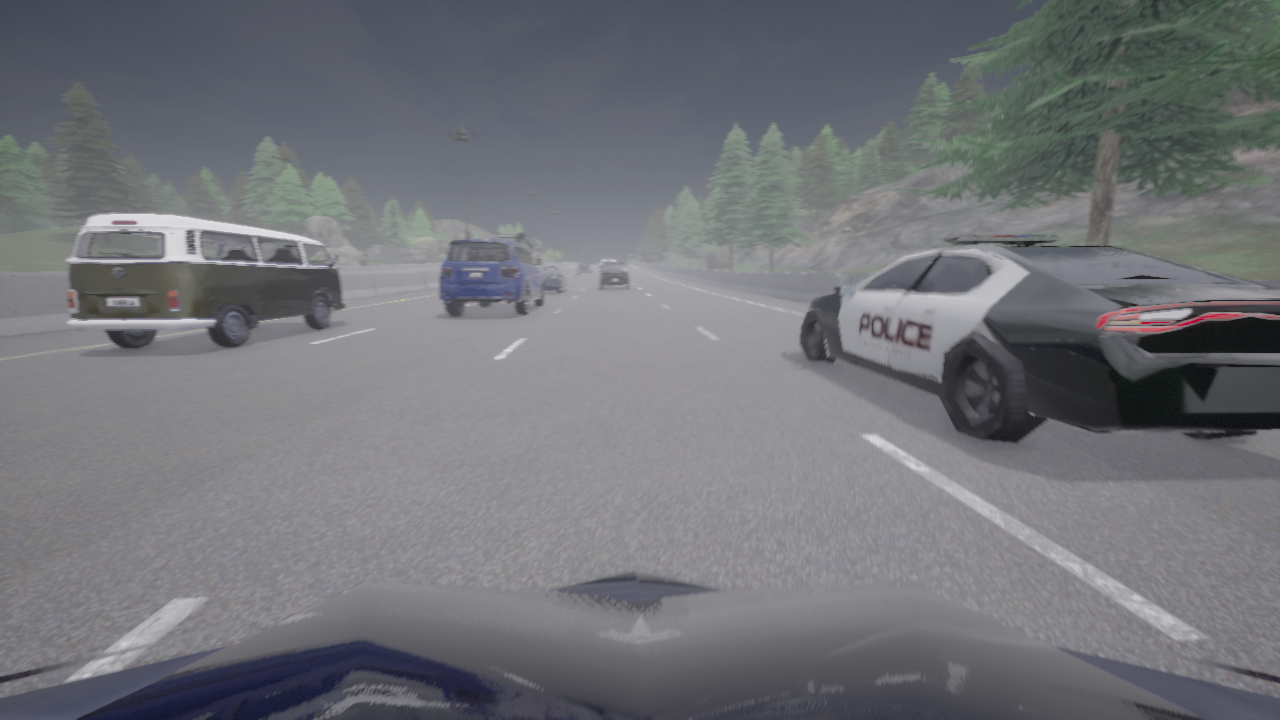cyclist: (0, 569, 1279, 719), (798, 233, 1279, 442), (66, 213, 345, 348), (440, 239, 544, 315), (481, 233, 531, 253), (597, 262, 629, 288), (538, 267, 567, 293), (599, 258, 615, 270)
